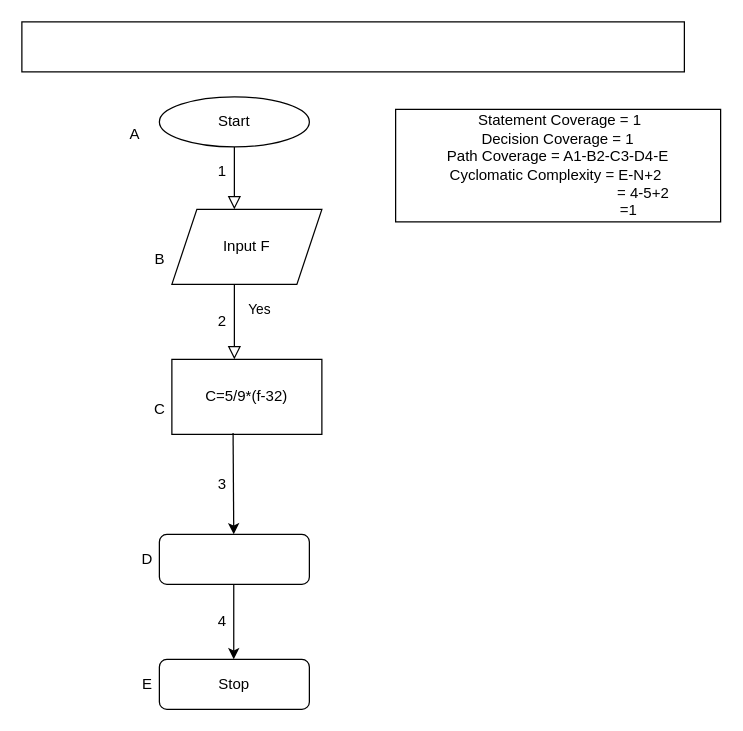
Some shapes in this 743 by 731 pixel diagram are drawn without their labels. Here are the shapes that lost their labels. From the top down, the centre of each, then its label:
the point at 352,46: Flowchart for Converting Fahrenheit to Celsius
the point at 233,558: Output C
